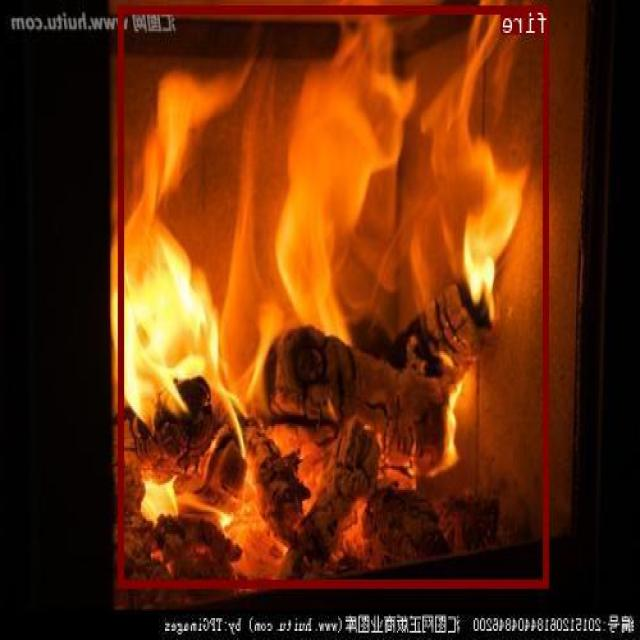fire: (120, 4, 551, 587)
